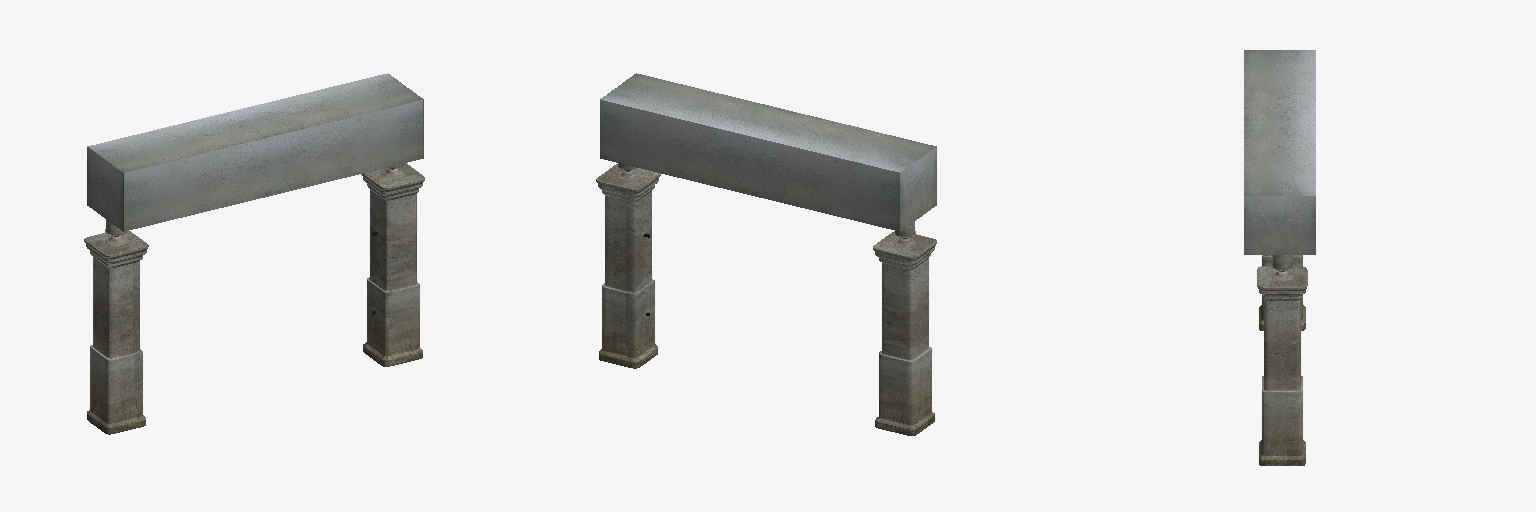
3 views of the same model, side by side, from view 1: azimuth 30°, elevation 25°; view 2: azimuth 150°, elevation 25°; view 3: azimuth 270°, elevation 25° (orthographic).
Visible parts, largest first — view 1: Box004, Ancient_Gate_Model_pillar_right_pillar_right, Ancient_Gate_Model_pillar_left_pillar_left; view 2: Box004, Ancient_Gate_Model_pillar_right_pillar_right, Ancient_Gate_Model_pillar_left_pillar_left; view 3: Box004, Ancient_Gate_Model_pillar_left_pillar_left.
Part boxes in pixels (left/top/right/bottom): Box004: left=87, top=73, right=423, bottom=231; Ancient_Gate_Model_pillar_right_pillar_right: left=84, top=231, right=148, bottom=434; Ancient_Gate_Model_pillar_left_pillar_left: left=361, top=163, right=424, bottom=366; Box004: left=600, top=73, right=936, bottom=231; Ancient_Gate_Model_pillar_right_pillar_right: left=873, top=232, right=936, bottom=435; Ancient_Gate_Model_pillar_left_pillar_left: left=596, top=164, right=660, bottom=368; Box004: left=1244, top=50, right=1315, bottom=254; Ancient_Gate_Model_pillar_left_pillar_left: left=1257, top=266, right=1307, bottom=465.
Size of the model in its own units: 106 by 84.25 by 20.75.
Materials: 3 (3 with a texture image).